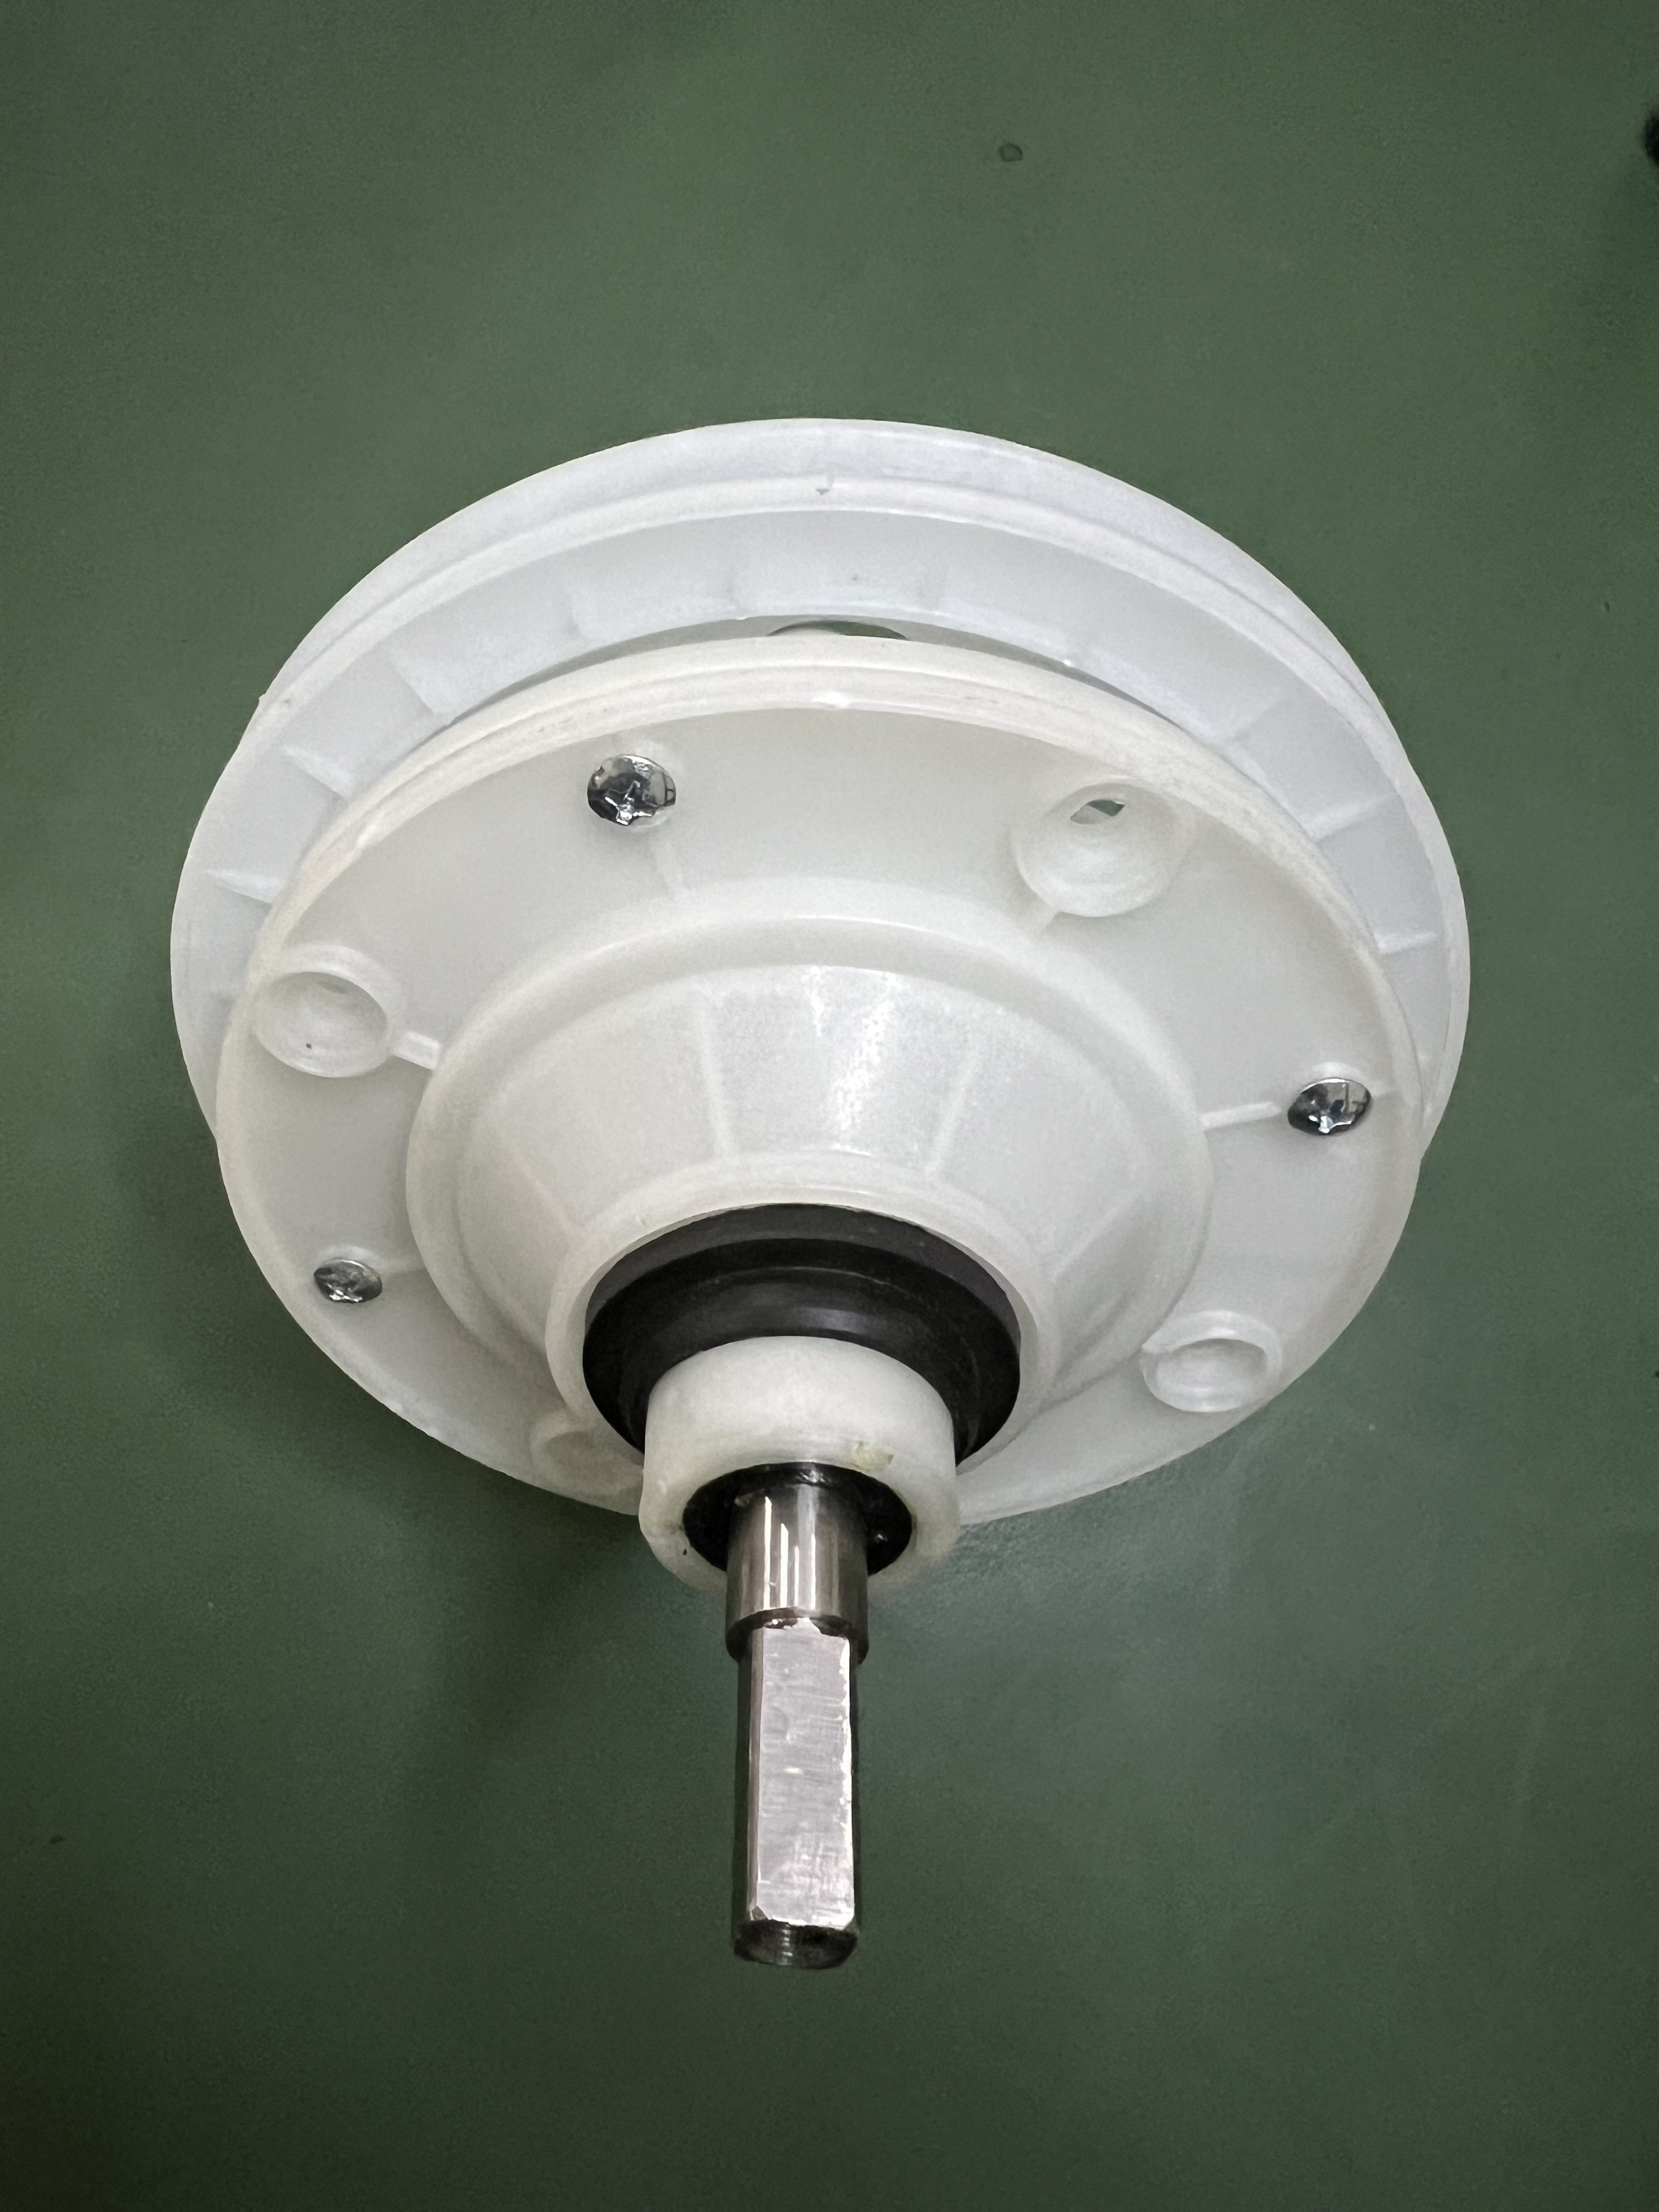gear_box_ovul: (153, 428, 1480, 1949)
